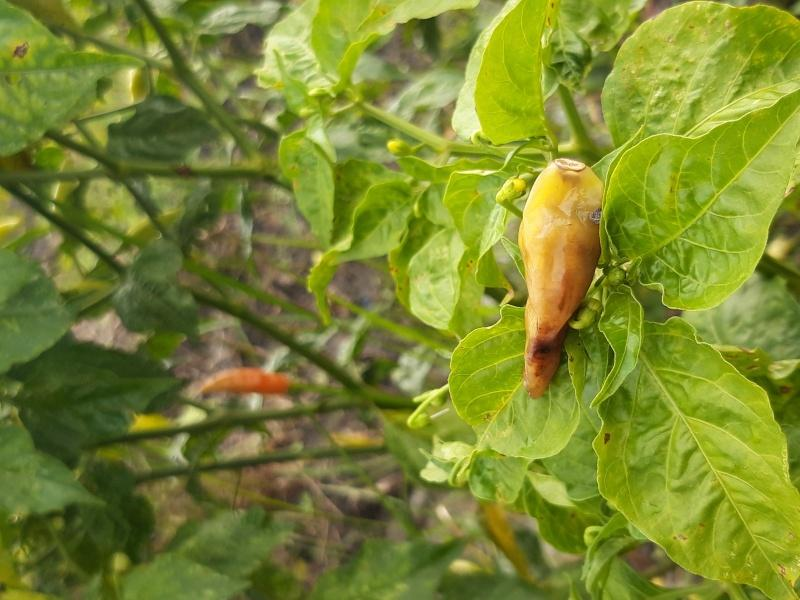lalat_buah: (517, 158, 602, 399)
